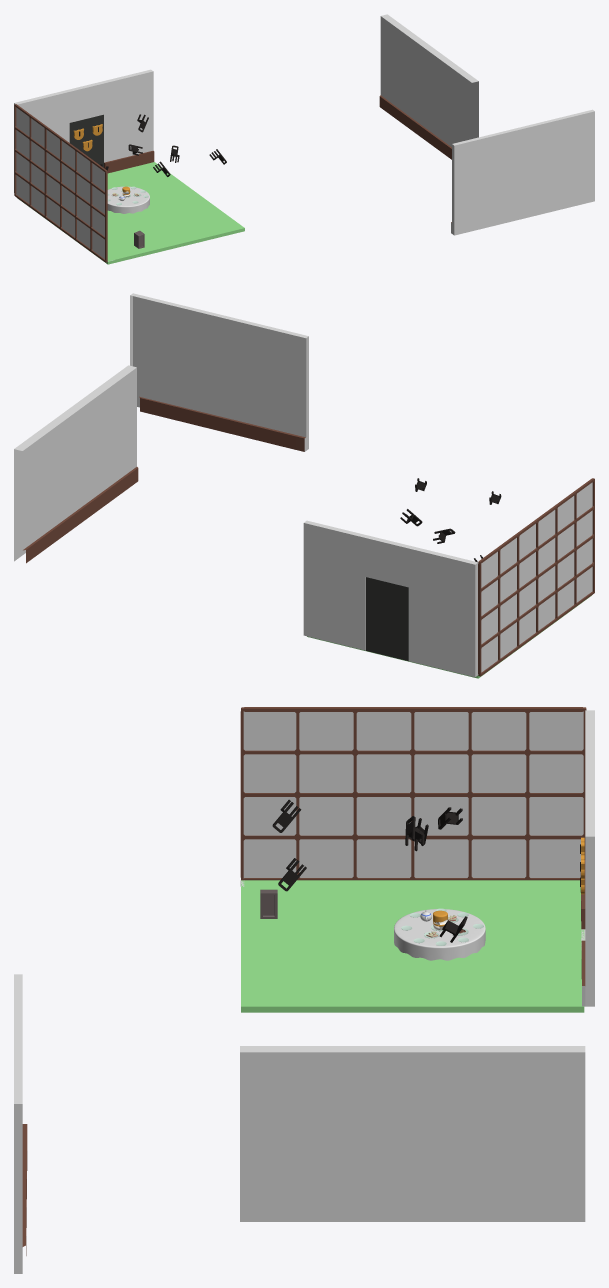
The model's file is teaparty 1.fbx.
3 views of the same model, one above another, from view 1: azimuth 30°, elevation 25°; view 2: azimuth 150°, elevation 25°; view 3: azimuth 270°, elevation 25° (orthographic). The views are drawn at different scales.
Parts seen in each view (by area): view 1: Plane.003, Plane.002, Plane, Plane.001, window.001, window, Table, DoorRight, Door; view 2: Plane.003, Plane.001, Plane.002, window.001, window, DoorRight, Door; view 3: Plane.002, window.001, Plane, window, Plane.001, Plane.003, Table.
Part boxes in pixels (box(x1,y1,x2,y2)): Plane.003: box(451, 109, 594, 235); Plane.002: box(379, 14, 478, 159); Plane: box(17, 162, 244, 264); Plane.001: box(14, 69, 154, 261); window.001: box(16, 107, 104, 258); window: box(14, 104, 107, 262); Table: box(107, 186, 149, 213); DoorRight: box(87, 114, 103, 167); Door: box(69, 119, 86, 155); Plane.003: box(130, 293, 308, 451); Plane.001: box(303, 520, 478, 677); Plane.002: box(14, 365, 138, 563); window.001: box(481, 482, 592, 672); window: box(478, 478, 594, 676); DoorRight: box(366, 577, 387, 655); Door: box(388, 582, 408, 661); Plane.002: box(240, 1046, 585, 1221); window.001: box(243, 711, 583, 877); Plane: box(241, 880, 584, 1012); window: box(240, 707, 586, 880); Plane.001: box(240, 710, 594, 1006); Plane.003: box(14, 974, 27, 1273); Table: box(394, 909, 485, 960).
Bounding box in the file's own units: 4159 × 871 × 2583.
